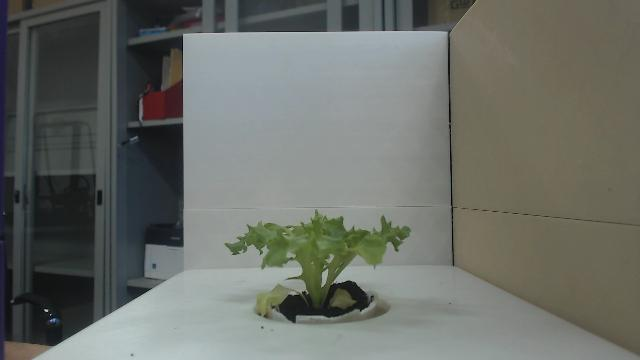Vegetative Stage: (224, 209, 410, 315)
